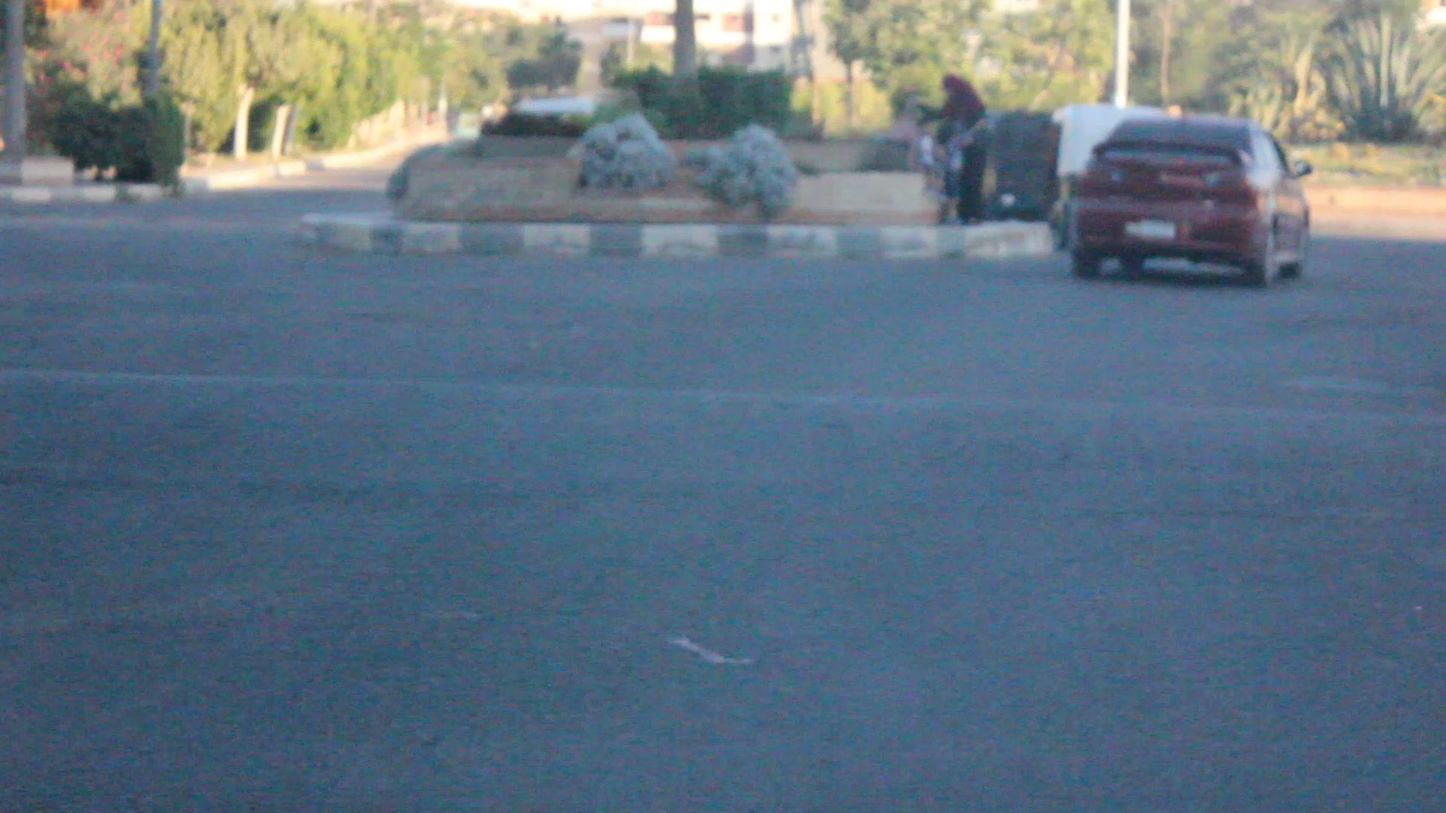Bump: (0, 367, 1445, 524)
